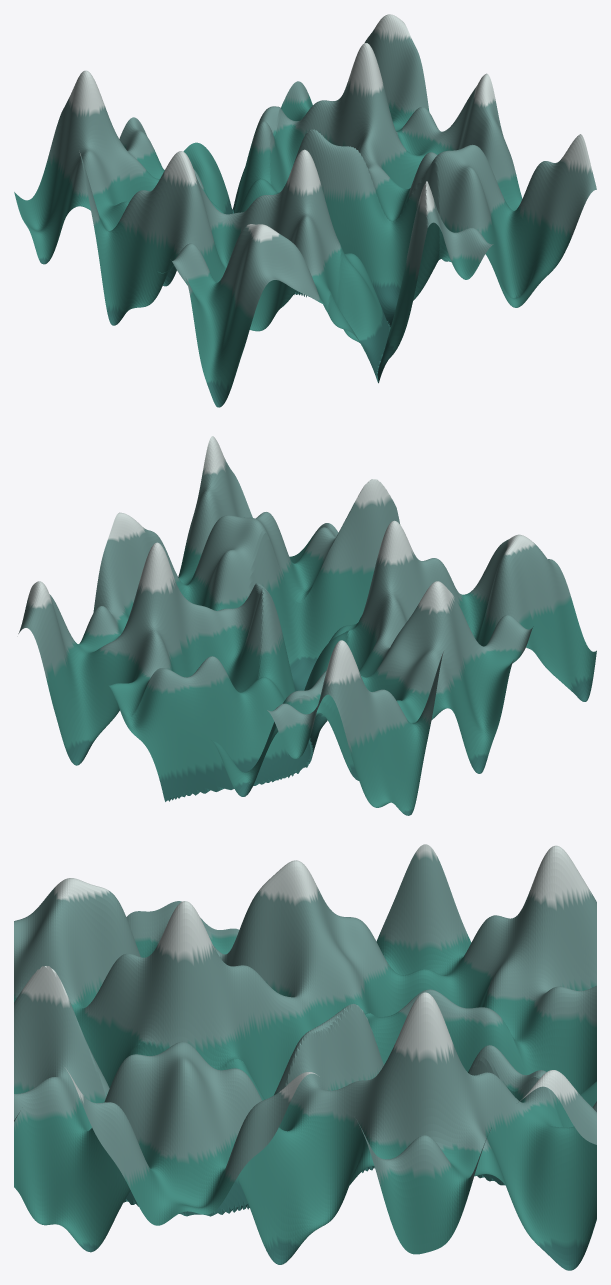
File: jal-drishti-terrain.glb
The picture shows the model from 3 angles, top to bottom: view 1: azimuth 30°, elevation 25°; view 2: azimuth 150°, elevation 25°; view 3: azimuth 270°, elevation 25°; orthographic projection. The views are drawn at different scales.
Visible parts, largest first — view 1: geometry_0; view 2: geometry_0; view 3: geometry_0.
Boxes of the visible parts, x1,y1,x2,y2 form: geometry_0: (14, 14, 596, 407); geometry_0: (18, 436, 596, 815); geometry_0: (14, 844, 596, 1270).
Size of the model in its own units: 140 by 71.42 by 140.
